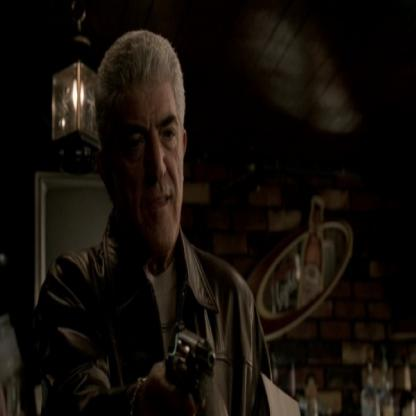Gun: (164, 317, 219, 405)
